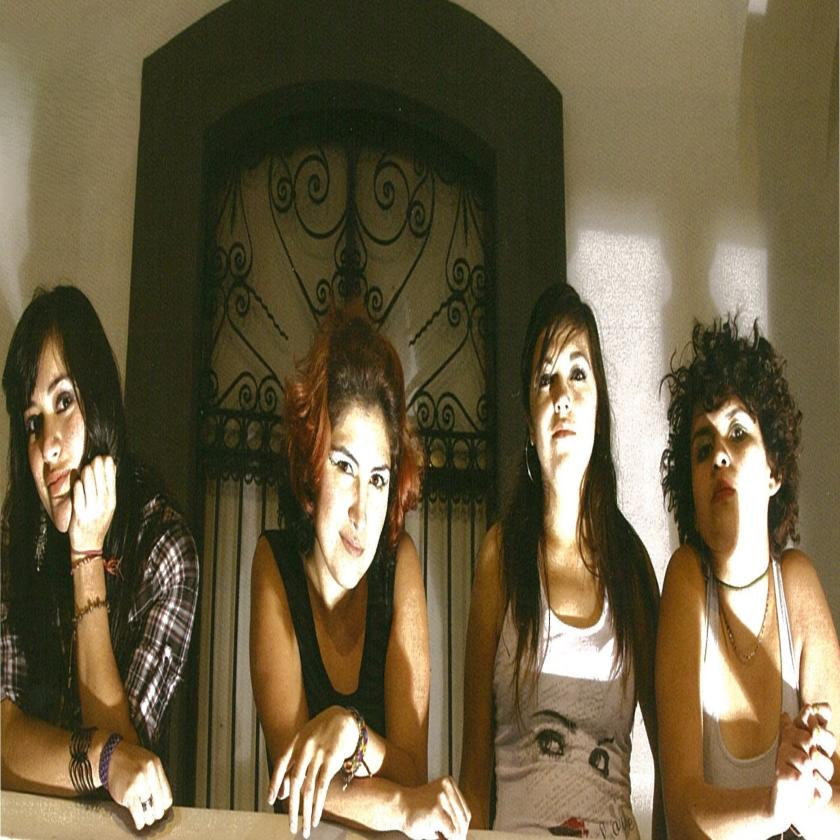Sin_casco: (290, 302, 409, 592), (676, 309, 800, 583), (12, 292, 139, 536), (512, 271, 617, 529)
